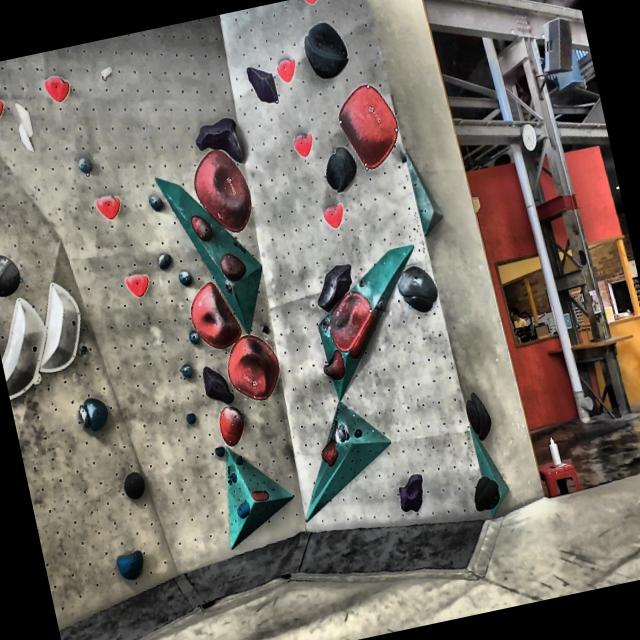Hold: (27, 272, 94, 384), (336, 76, 405, 172), (188, 150, 260, 240), (0, 293, 58, 403), (221, 327, 287, 403), (326, 282, 386, 361), (188, 280, 246, 352), (301, 16, 354, 86), (190, 115, 248, 171), (392, 264, 447, 320), (310, 254, 362, 312), (461, 386, 496, 444), (198, 360, 236, 412), (242, 60, 278, 112), (13, 95, 42, 156), (323, 146, 359, 194), (466, 469, 504, 513), (215, 402, 253, 446), (394, 470, 430, 514), (76, 395, 112, 434), (114, 547, 150, 586), (0, 245, 26, 298), (120, 267, 156, 299), (273, 46, 304, 82), (318, 349, 348, 384), (188, 210, 216, 247), (218, 248, 247, 282), (122, 468, 149, 504), (44, 71, 72, 105), (94, 192, 122, 222), (322, 201, 348, 233), (289, 130, 317, 158), (317, 442, 342, 466), (232, 497, 254, 521), (328, 420, 349, 445), (293, 0, 327, 15), (250, 484, 271, 506), (154, 248, 173, 272), (182, 326, 202, 348), (98, 63, 120, 83), (76, 156, 95, 178), (176, 267, 193, 288), (0, 91, 10, 125), (227, 469, 244, 489), (148, 191, 164, 212), (178, 362, 195, 381), (183, 410, 199, 428), (374, 295, 388, 313), (211, 444, 228, 458), (233, 450, 246, 468), (353, 424, 362, 439)
